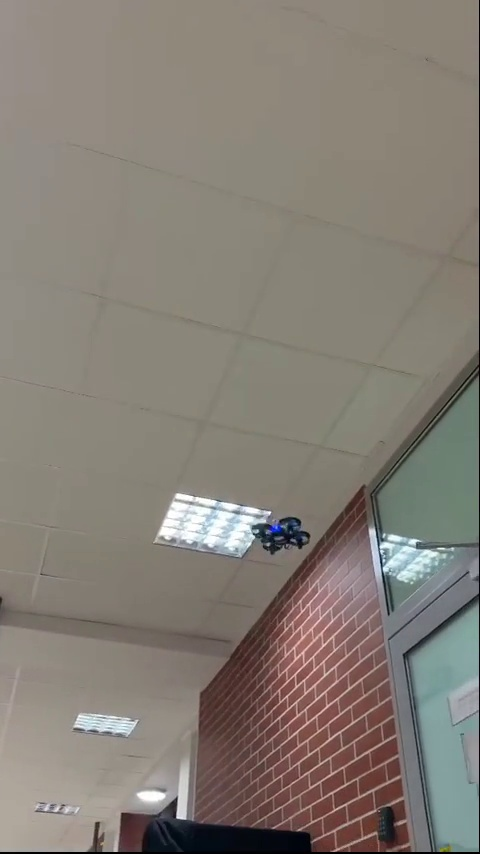drone: (255, 511, 316, 553)
